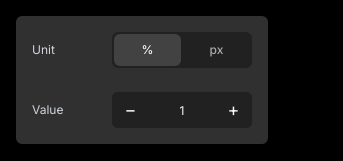
Test: NumberInput Component › Percentage Mode Validation › should show tooltip when hovering disabled increment button
This screenshot has width=343, height=161.
Set value to 100
Replace the text in the field with "100" at (182, 110), box [148,92,216,128]
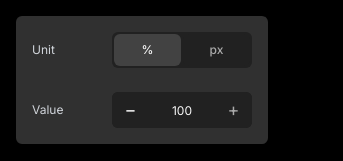
Hover over the button "+" at (234, 110), box [216,92,252,128]
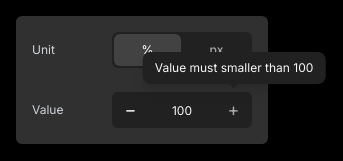
Check: the text "Value must smaller than 100" is shown, box [143,52,325,84]
